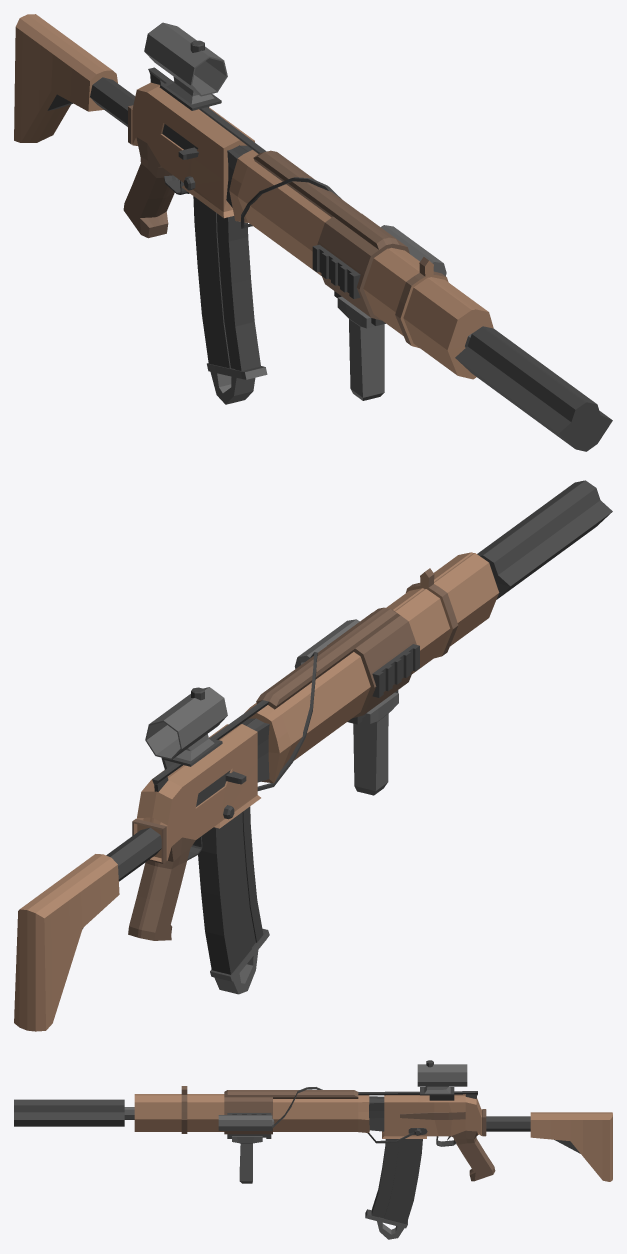
The picture shows the model from 3 angles, top to bottom: view 1: azimuth 30°, elevation 25°; view 2: azimuth 150°, elevation 25°; view 3: azimuth 270°, elevation 25°; orthographic projection. The views are drawn at different scales.
Parts seen in each view (by area): view 1: Cube, Cube.002, Cube.001, Cylinder.001, Cube.007, Cube.005, Cylinder, Cube.008; view 2: Cube, Cube.001, Cube.002, Cylinder.001, Cube.007, Cylinder, Cube.005; view 3: Cube, Cube.002, Cube.001, Cylinder.001, Cube.008, Cube.007, Cylinder, Cube.010.
Part boxes in pixels (x1,y1,x2,y2): Cube: [123, 67, 612, 451]; Cube.002: [193, 196, 267, 404]; Cube.001: [14, 14, 117, 142]; Cylinder.001: [144, 22, 227, 96]; Cube.007: [337, 296, 385, 400]; Cube.005: [312, 244, 360, 298]; Cylinder: [90, 77, 135, 126]; Cube.008: [381, 225, 446, 276]; Cube: [128, 480, 612, 940]; Cube.001: [14, 854, 119, 1031]; Cube.002: [198, 806, 269, 994]; Cylinder.001: [145, 687, 227, 759]; Cube.007: [353, 692, 398, 795]; Cylinder: [106, 827, 161, 881]; Cube.005: [372, 644, 419, 697]; Cube: [14, 1086, 495, 1181]; Cube.002: [365, 1139, 422, 1239]; Cube.001: [530, 1112, 612, 1181]; Cylinder.001: [417, 1064, 467, 1086]; Cube.008: [218, 1115, 274, 1130]; Cube.007: [232, 1136, 262, 1183]; Cylinder: [486, 1116, 530, 1131]; Cube.010: [272, 1087, 414, 1143].
Size of the model in its own units: 31.21 by 117 by 359.
